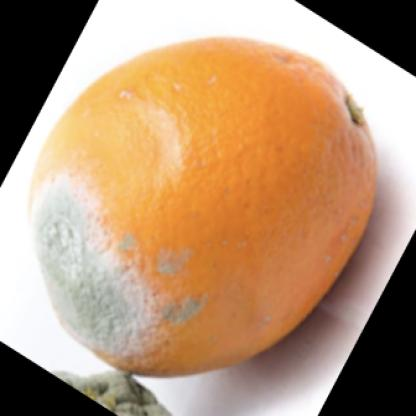rotten: (34, 36, 376, 379)
